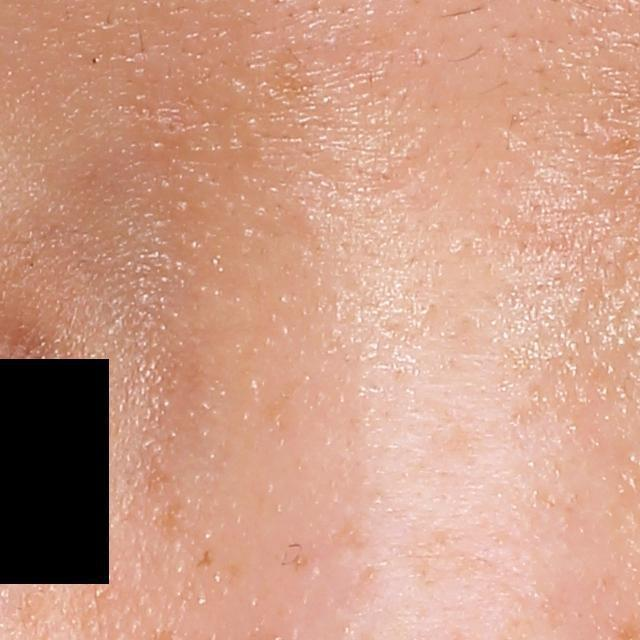melasma: (398, 513, 506, 587), (141, 463, 190, 547), (328, 517, 381, 558)
